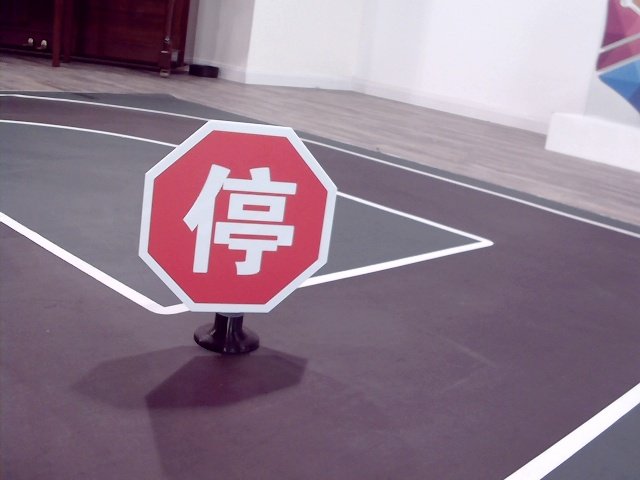stop: (183, 156, 297, 276)
